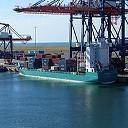Ships: (16, 40, 120, 87)
